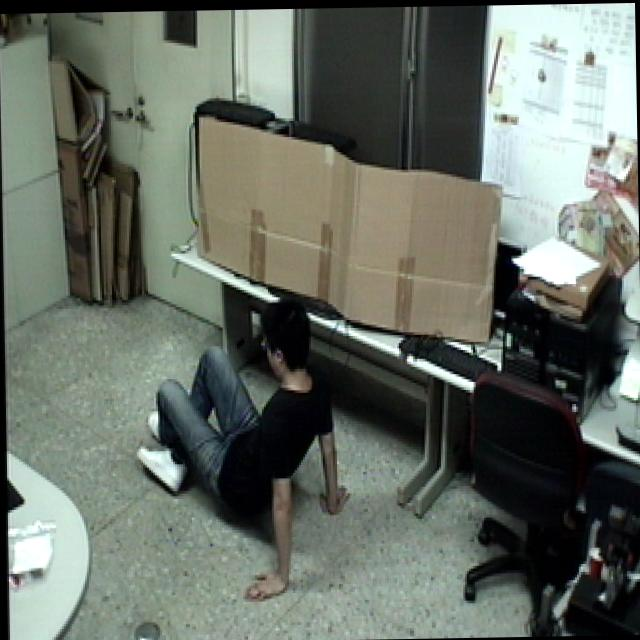sit: (129, 285, 354, 606)
